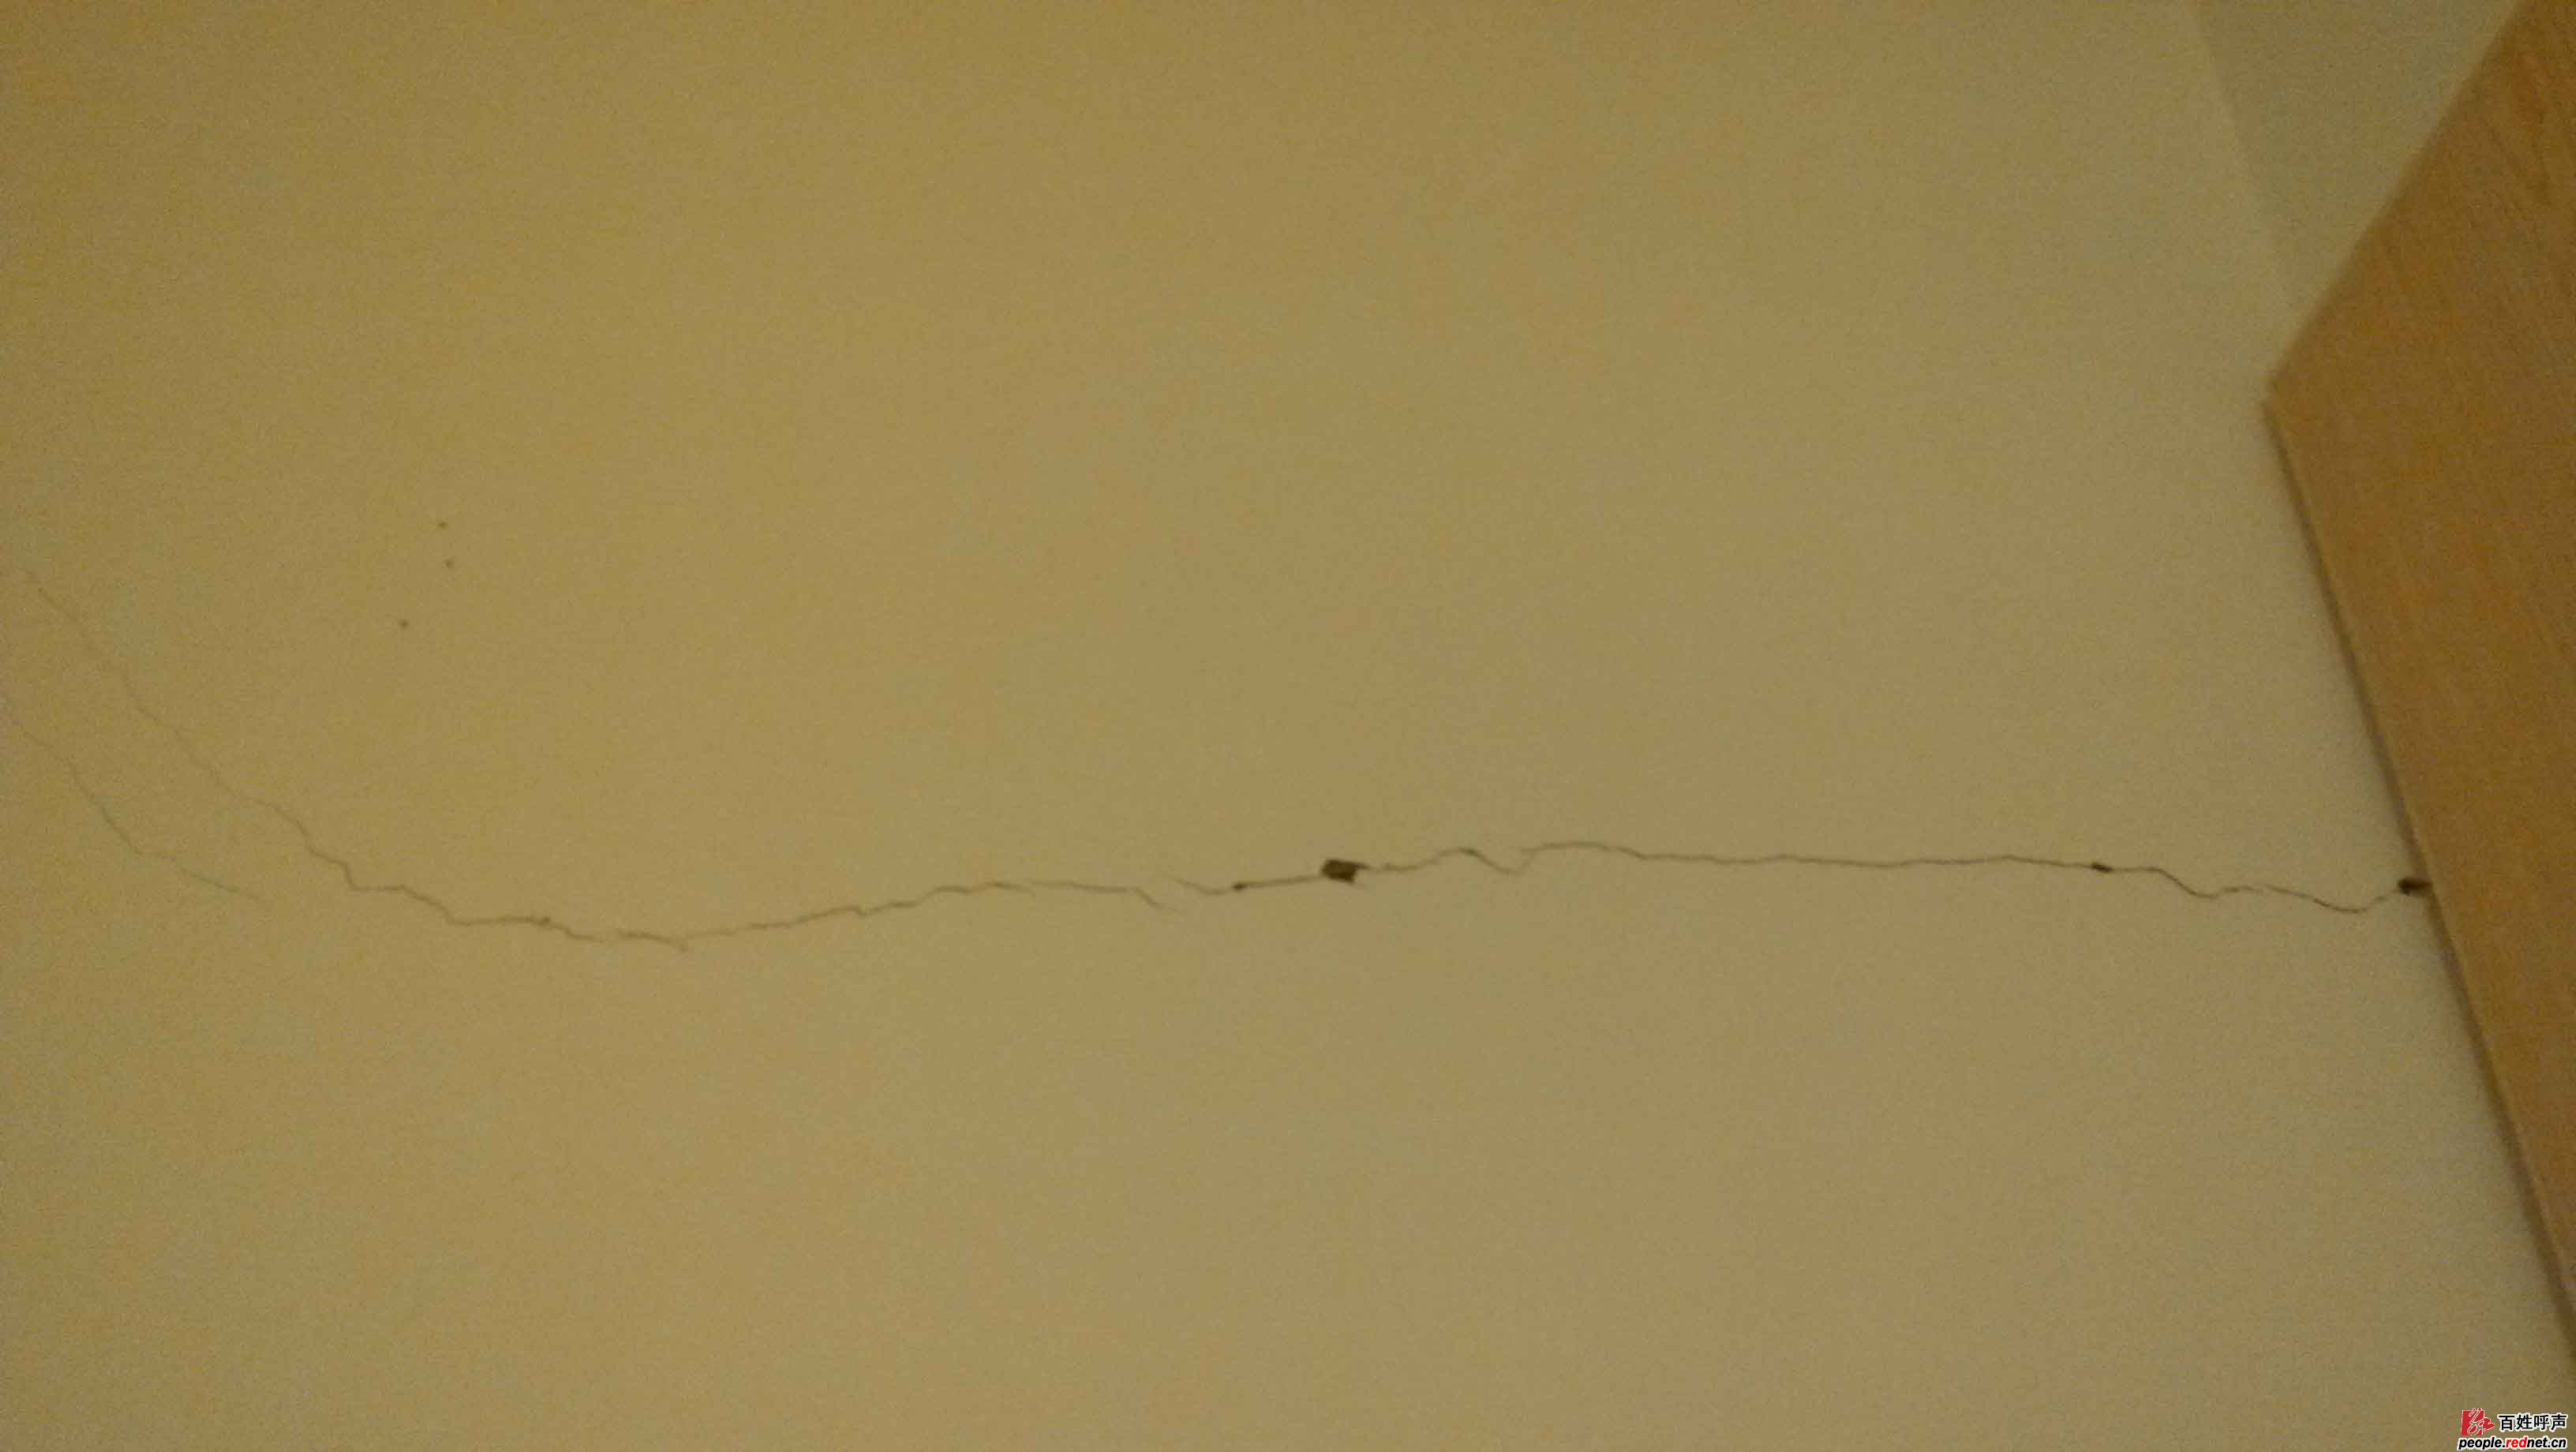crack: (5, 520, 2449, 1056)
